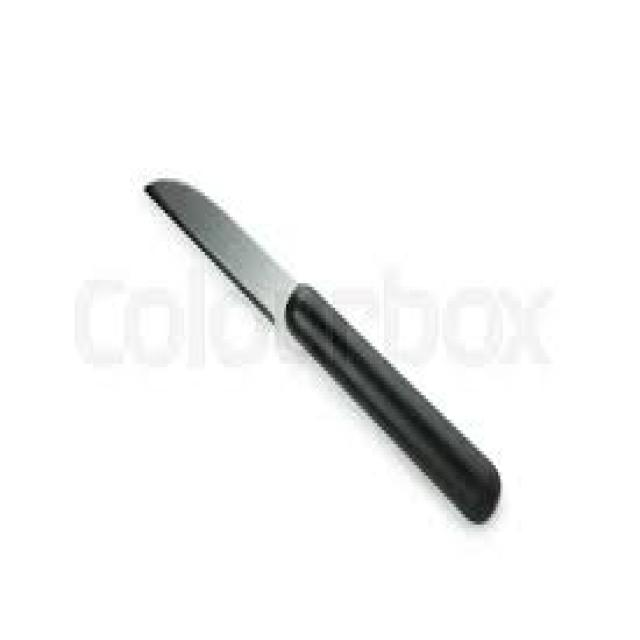Knife: (142, 175, 500, 524)
